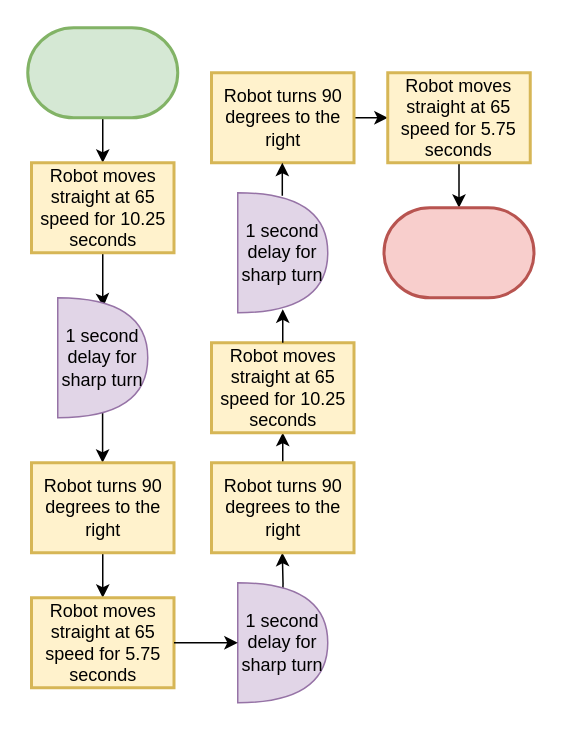
The diagram is 561 pixels wide and 729 high, and some of its shapes have lost their labels. Each missing label, with the box of its shape:
End: (382, 206, 535, 298)
Start: (26, 26, 178, 118)
